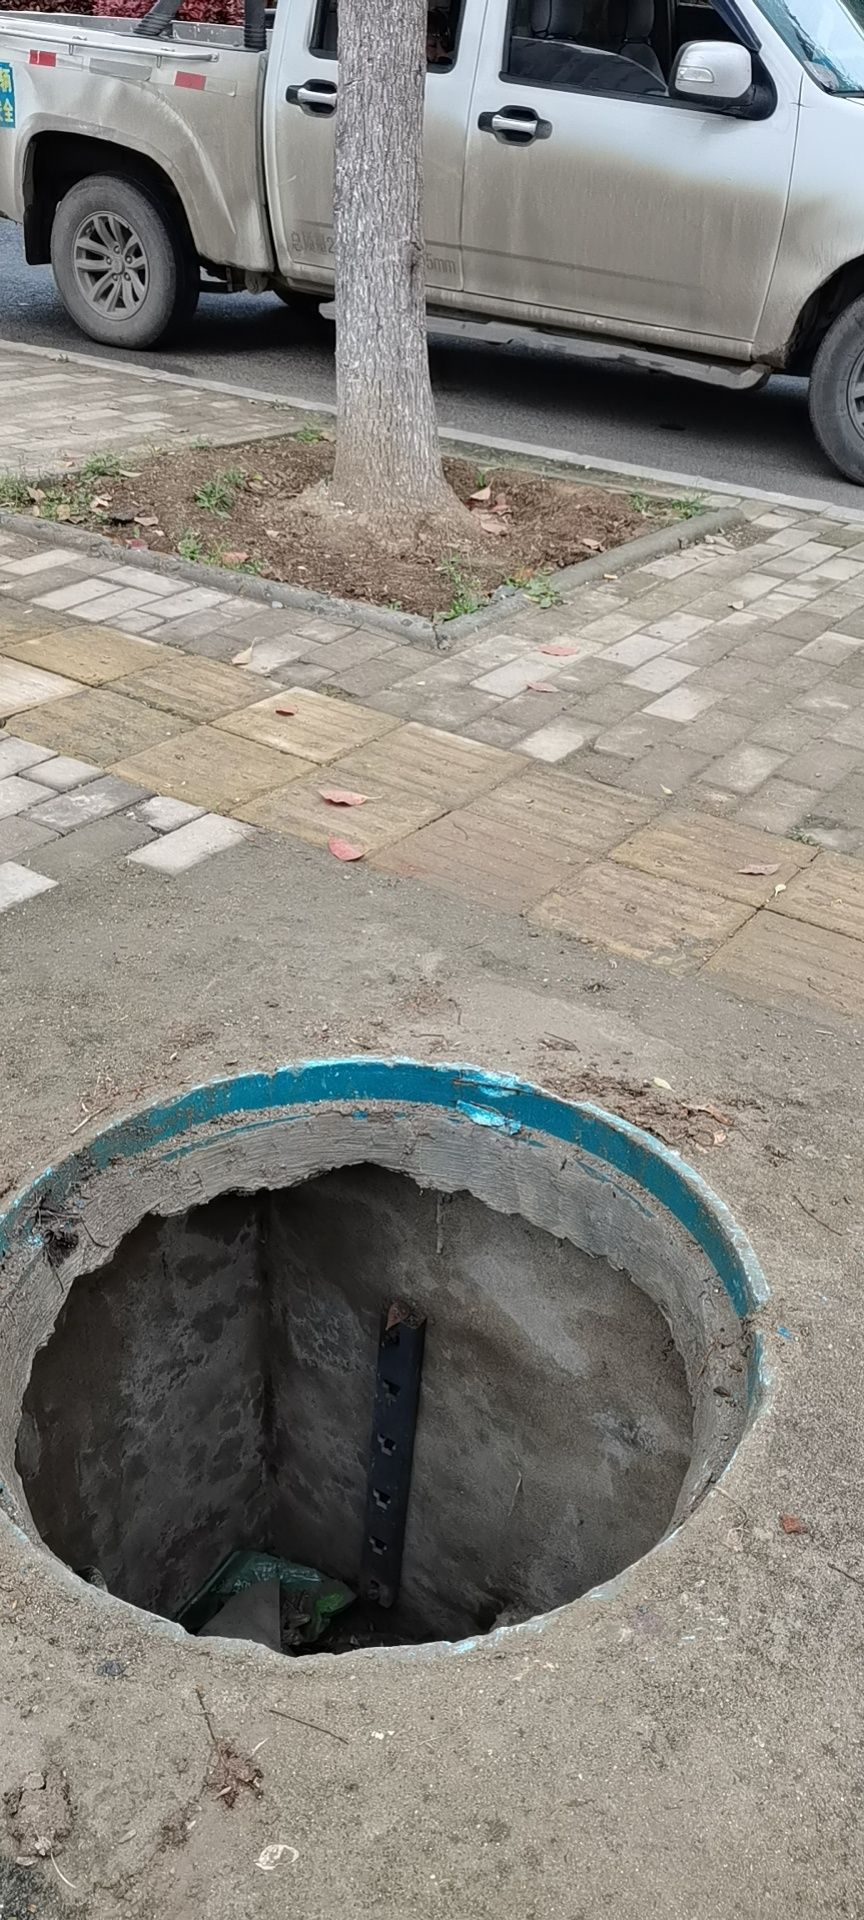lose: (1, 1059, 778, 1671)
